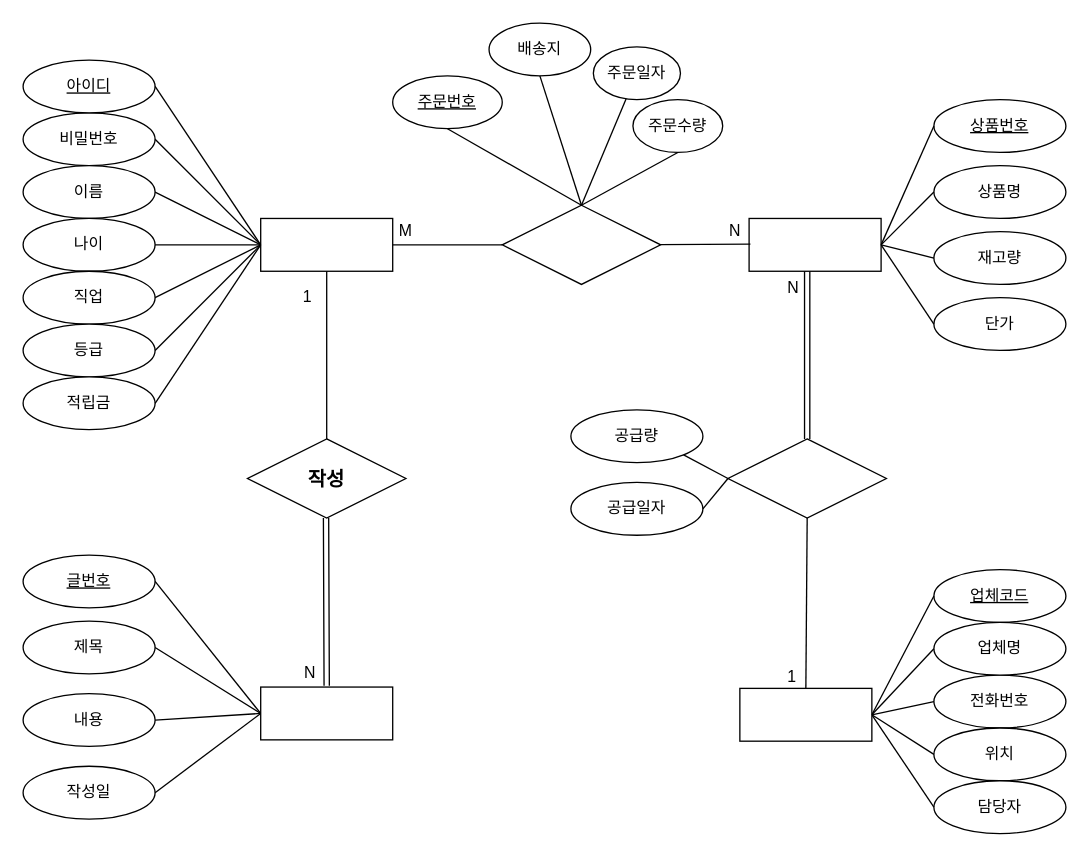
Some shapes in this 1089 by 857 pixel diagram are drawn without their labels. The shapes that lost their labels are listed below. From the top down, each one's centre as x and y in pixels, then its label:
At point (326, 244): "회원".
At point (581, 244): "주문".
At point (814, 244): "상품".
At point (806, 478): "공급".
At point (326, 713): "게시글".
At point (805, 714): "제조업체".
